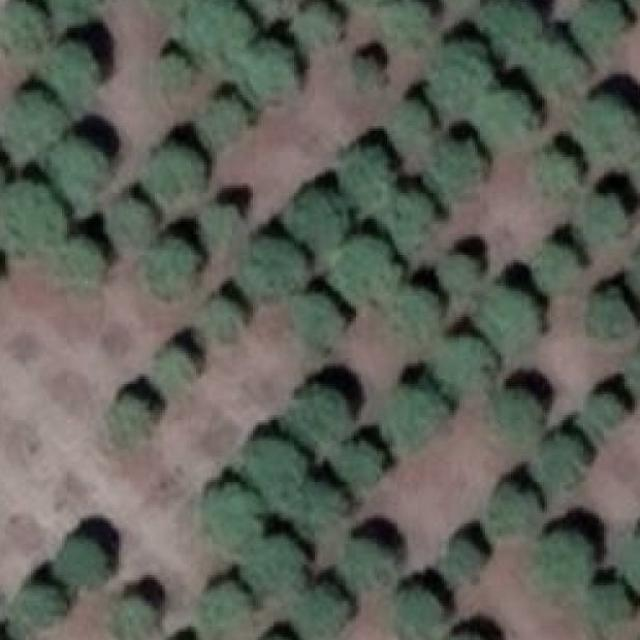Tree: (0, 182, 67, 245), (240, 536, 306, 598), (204, 485, 264, 550), (183, 0, 255, 54), (330, 240, 398, 296), (51, 138, 105, 208), (238, 38, 300, 98), (532, 534, 592, 594), (248, 438, 304, 501), (7, 93, 67, 150), (242, 240, 304, 294), (291, 191, 348, 248), (480, 0, 542, 52), (537, 430, 588, 492), (482, 291, 539, 346), (291, 585, 348, 640), (286, 389, 348, 439), (338, 146, 387, 208), (582, 95, 637, 150), (427, 139, 482, 194), (438, 336, 496, 387), (289, 479, 349, 528), (572, 0, 626, 54), (431, 47, 485, 101), (387, 387, 434, 449), (484, 480, 539, 532), (150, 234, 196, 296), (48, 40, 95, 100), (0, 0, 50, 55), (149, 147, 203, 196), (381, 188, 425, 248), (392, 286, 434, 346), (54, 536, 105, 585), (203, 583, 248, 638), (294, 294, 344, 341), (495, 391, 542, 441), (200, 98, 245, 150), (397, 590, 444, 637), (16, 585, 65, 630), (583, 583, 635, 625), (534, 38, 580, 85), (381, 0, 425, 49), (341, 539, 387, 585), (580, 193, 625, 240), (335, 444, 382, 485), (585, 397, 630, 439), (110, 399, 152, 444), (484, 93, 529, 134), (436, 250, 480, 291), (64, 237, 103, 282), (114, 598, 155, 640), (295, 0, 334, 44), (537, 150, 578, 191), (532, 245, 573, 286), (207, 299, 246, 341), (590, 294, 635, 330), (155, 341, 191, 385), (392, 100, 428, 142), (116, 198, 154, 232), (46, 0, 108, 20), (449, 536, 480, 575), (198, 202, 238, 232), (160, 57, 191, 88), (353, 57, 377, 93), (627, 526, 640, 591)
